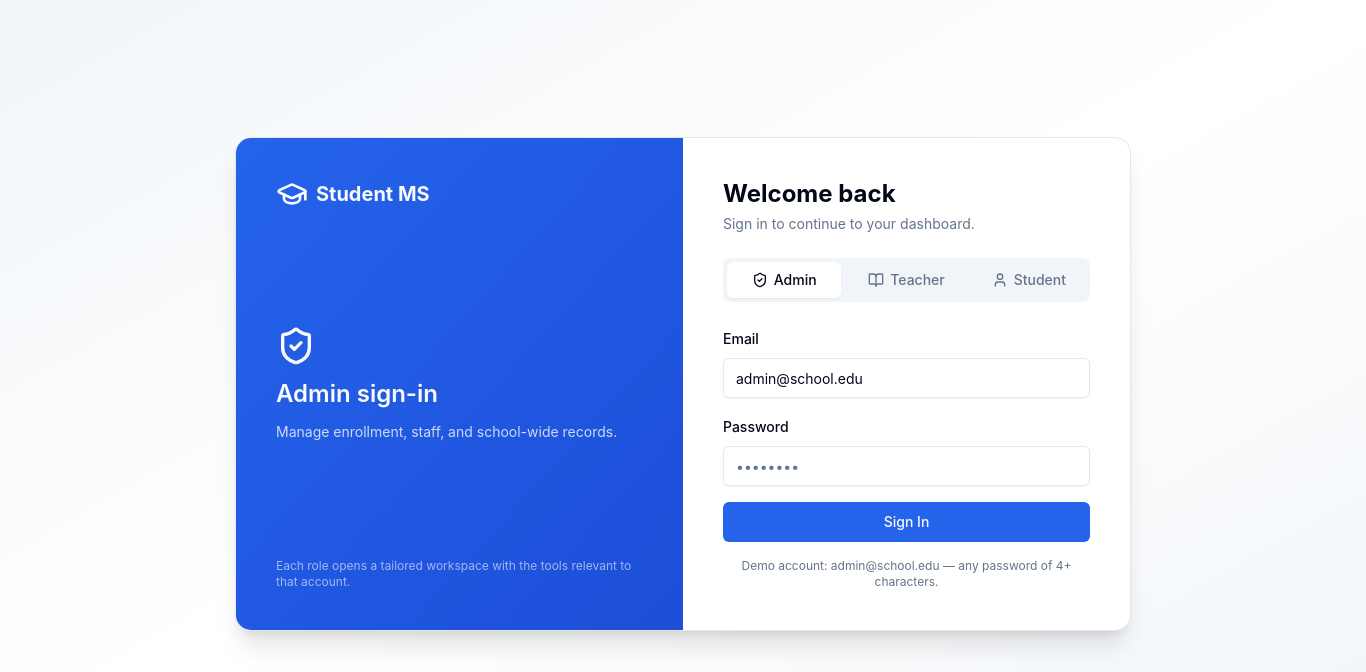
Test: App › logs in as teacher and shows the teacher dashboard
Replace the text in the field labelled "Email" with "teacher@school.edu". click: coordinates (906, 378)
box: [723,358,1090,398]
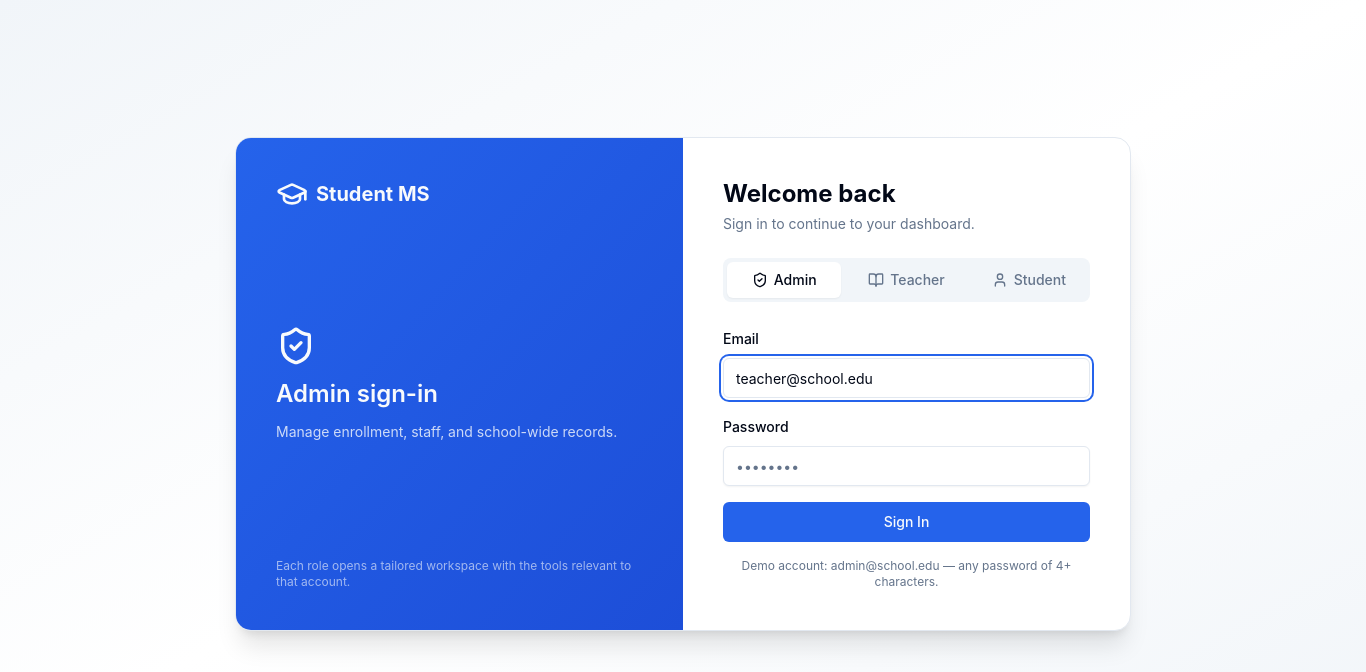
Type "anything123" into the password field labelled "Password". click: coordinates (906, 466)
box: [723,446,1090,486]
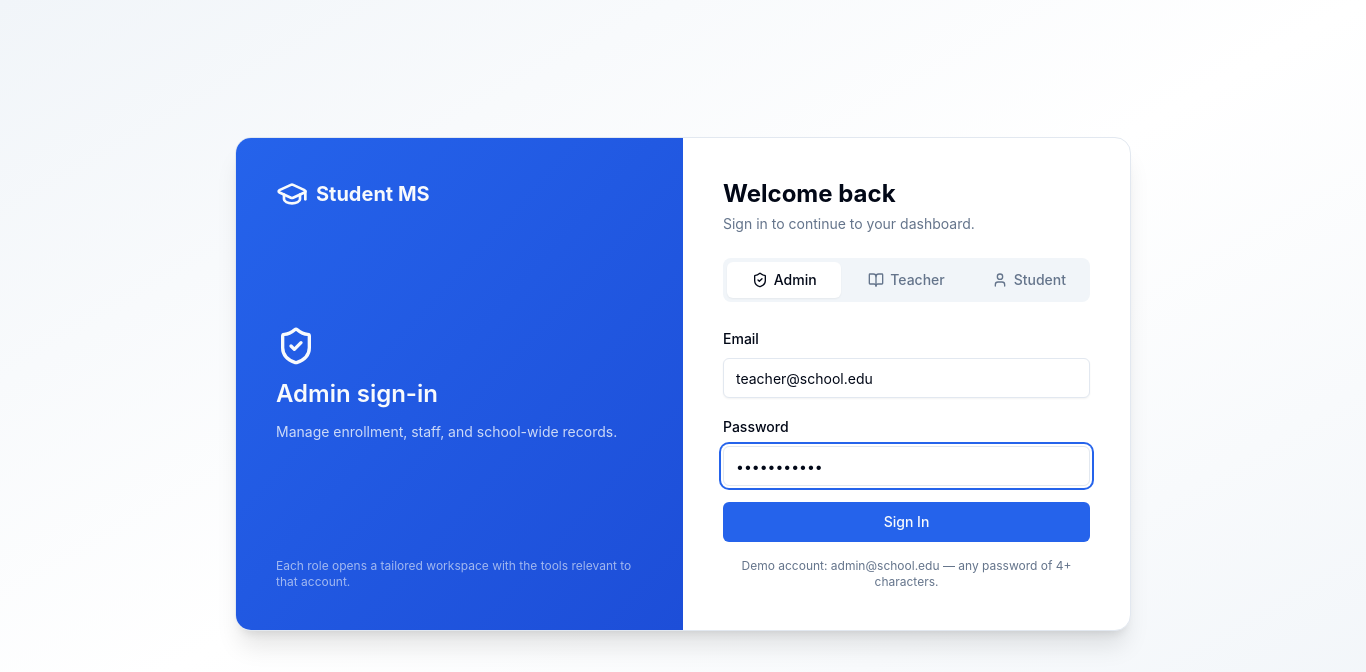
Click the button "Sign In". click: coordinates (906, 522)
box: [723,502,1090,542]
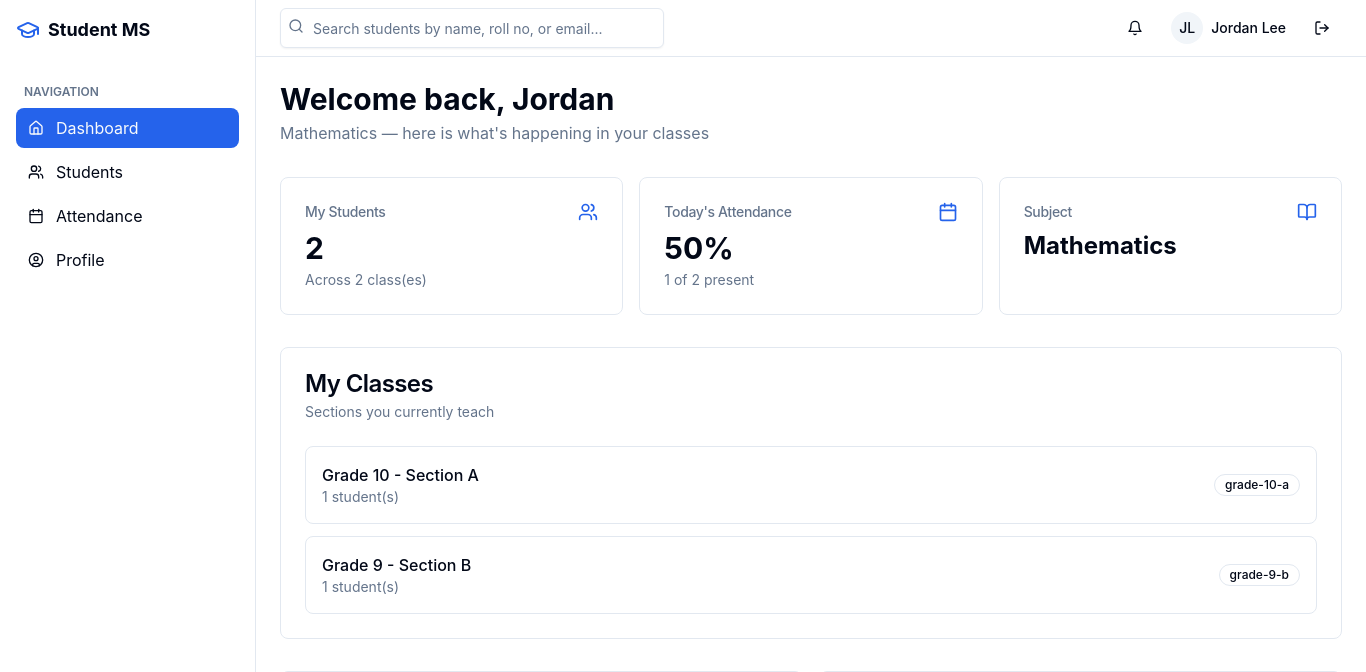
Expected: the heading "Welcome back, Jordan" is shown, [280,81,614,117]
Expected: the heading "My Classes" is shown, [305,369,433,398]
